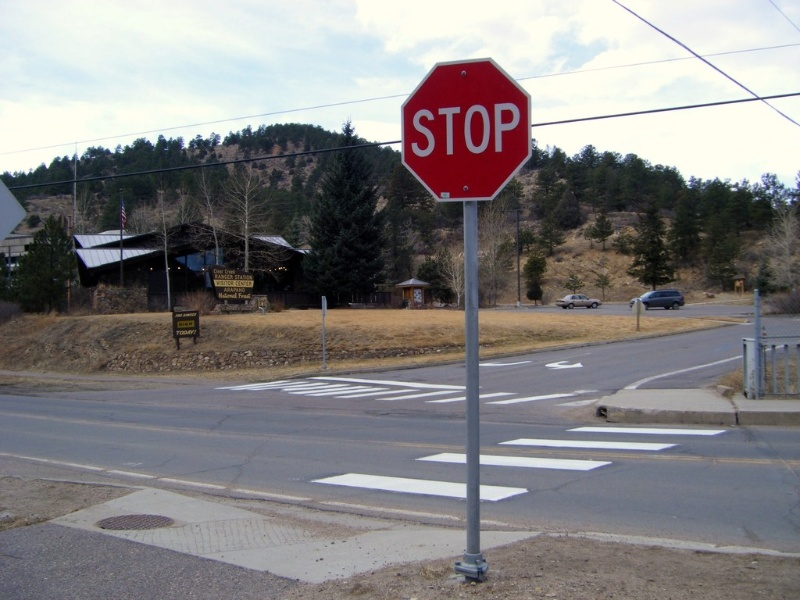stop: (394, 59, 533, 202)
zebra_cross: (289, 428, 729, 515), (216, 366, 599, 414)
